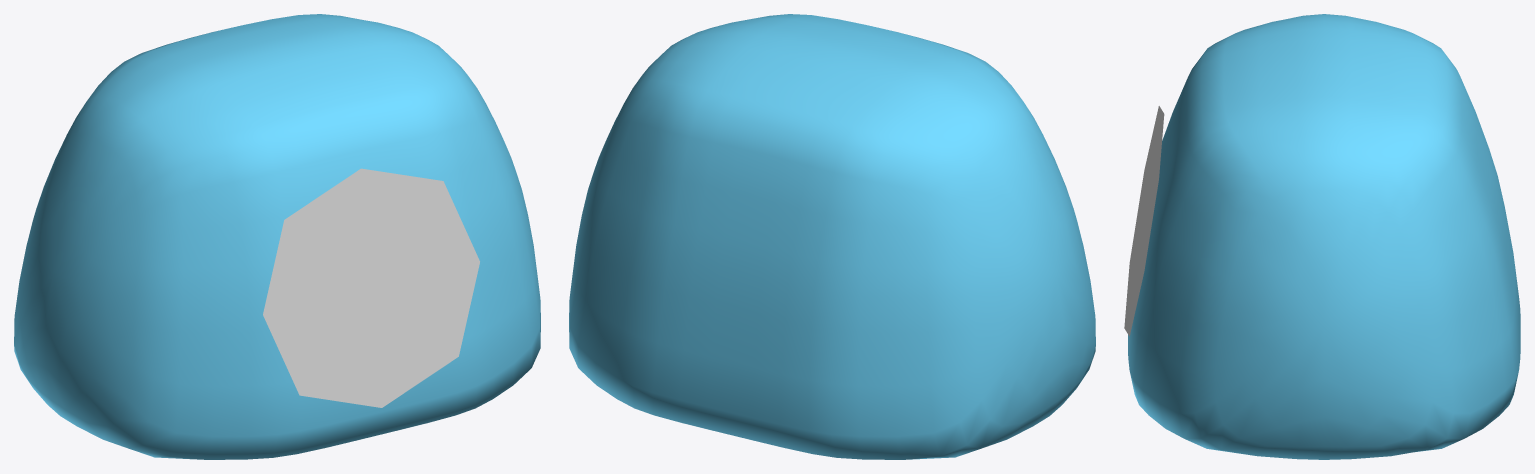
Rendered from azul.fbx.
3 renders of one model, left to right at view 1: azimuth 30°, elevation 25°; view 2: azimuth 150°, elevation 25°; view 3: azimuth 270°, elevation 25°, orthographic. The views are drawn at different scales.
Visible parts, largest first — view 1: Cube; view 2: Cube; view 3: Cube.
Part boxes in pixels (x1,y1,x2,y2): Cube: (14, 14, 540, 459); Cube: (569, 14, 1095, 459); Cube: (1124, 14, 1520, 459).
Bounding box in the file's own units: 290 × 193 × 225.
